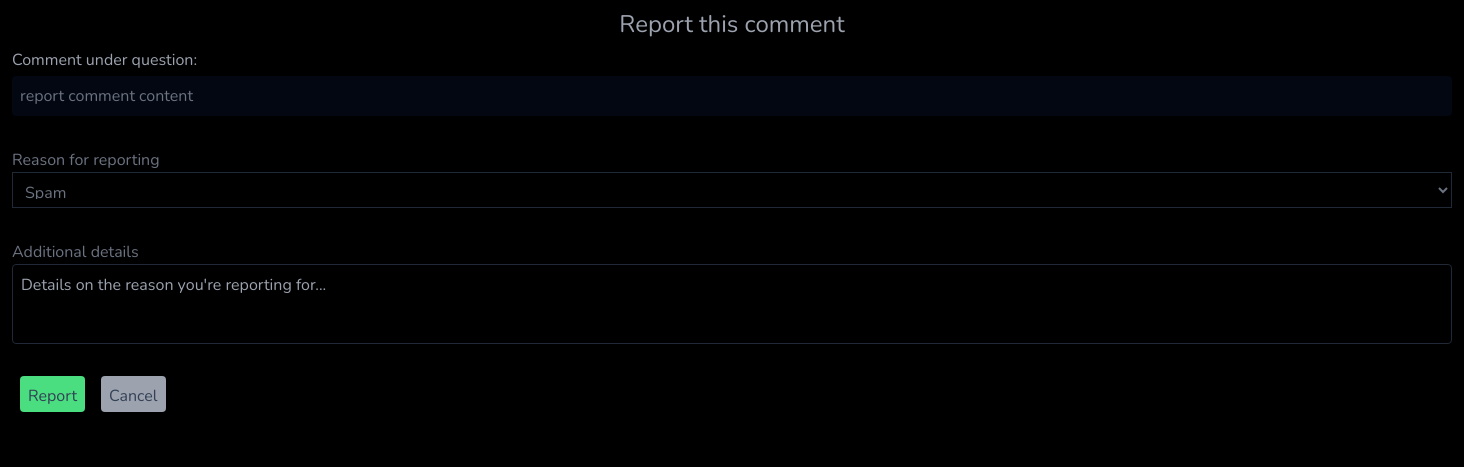
Test: TopicDetailsReportCommentModalContent › should handle API error and display error message
The width and height of the screenshot is (1464, 467).
Select "Spam" in the dropdown labelled "Reason for reporting". click: x=732, y=190
box: 12,172 -> 1452,208
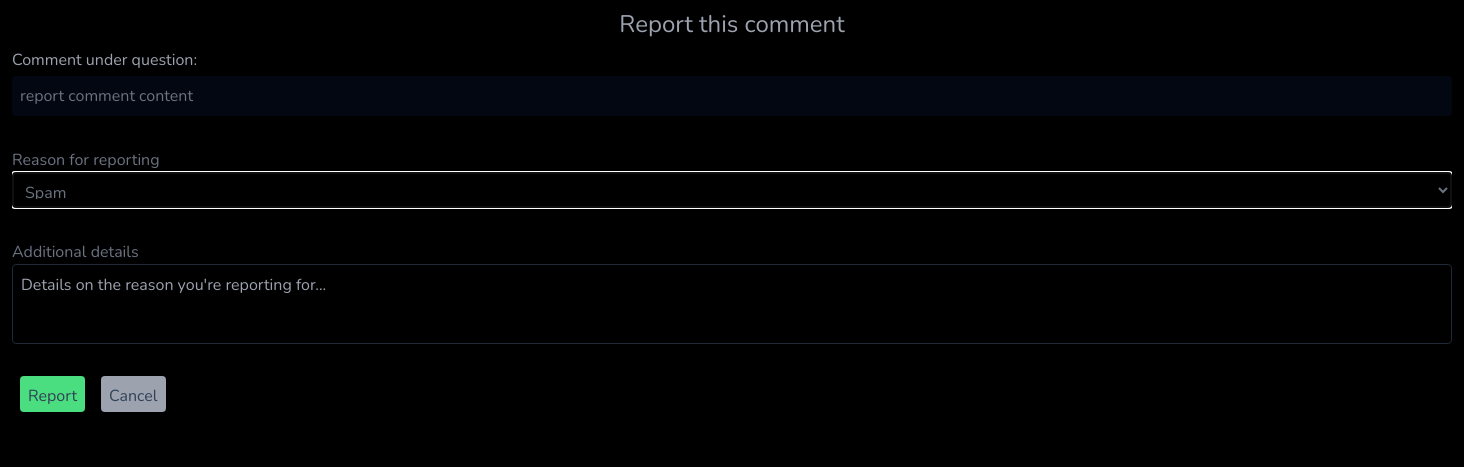
Type "test" into the text box labelled "Additional details". click: x=732, y=304
box: 12,264 -> 1452,344
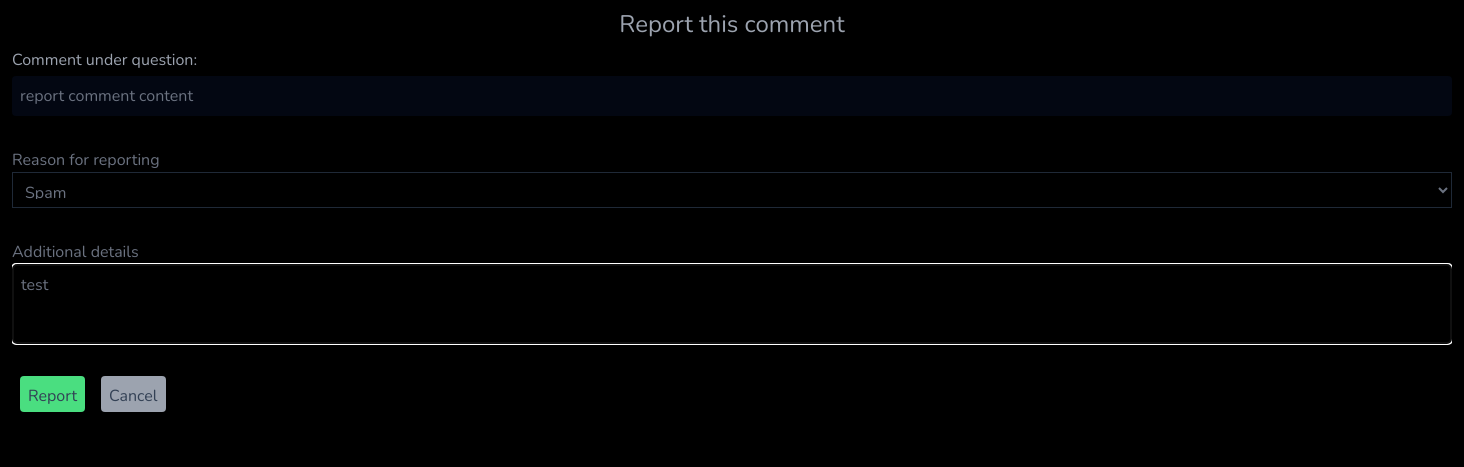
Click the button "Report". click: x=52, y=394
box: 20,376 -> 85,412
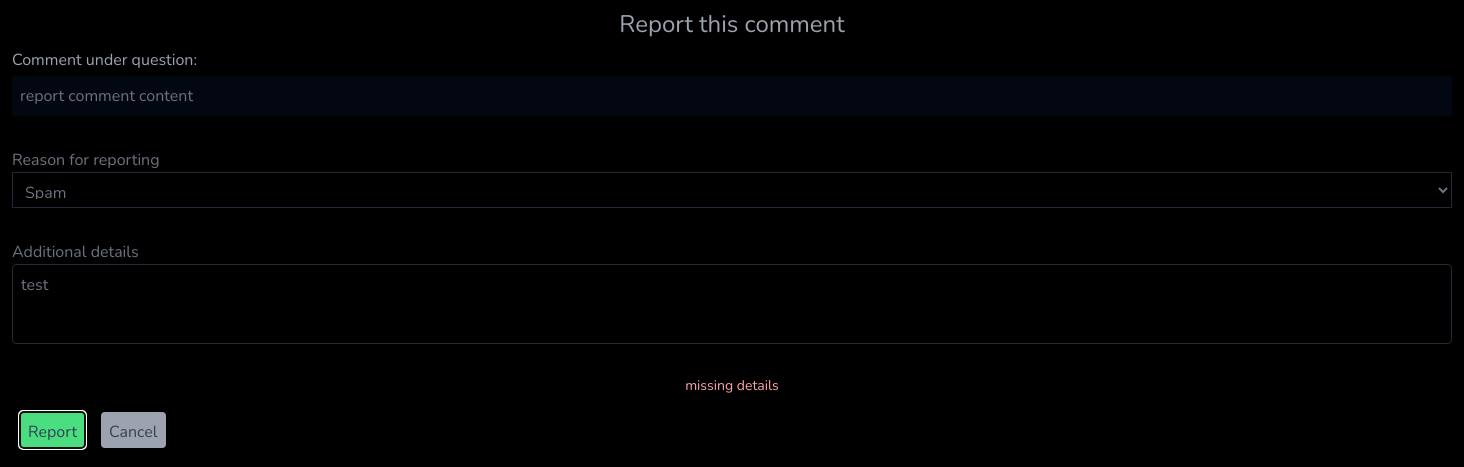
Check: the text "missing details" is shown, box 685,376 -> 779,396
